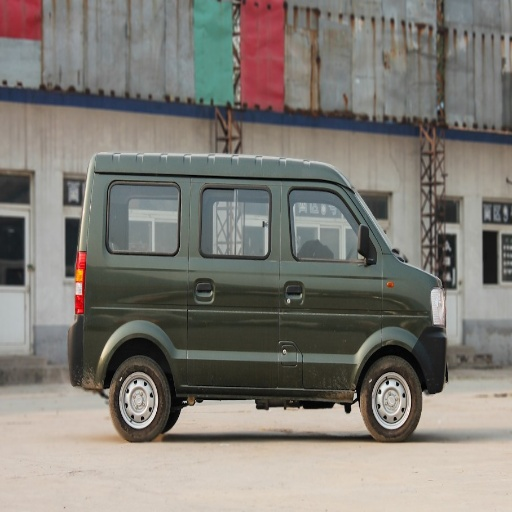back_right_door: (185, 180, 280, 382)
trunk: (82, 258, 182, 387)
